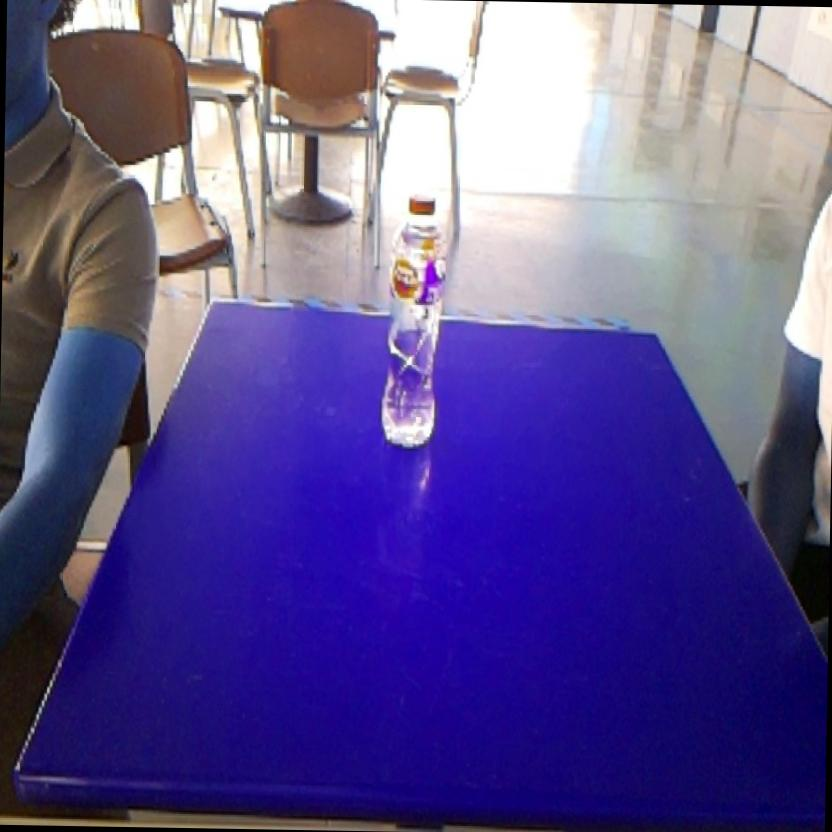good: (374, 182, 458, 465)
